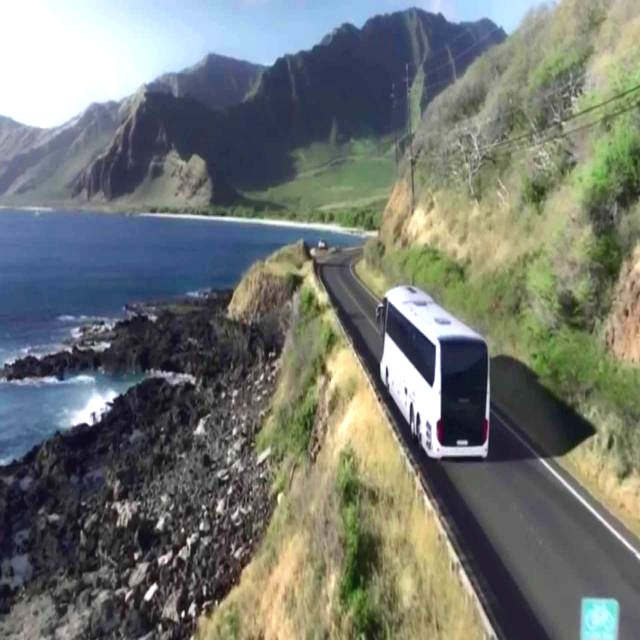bus: (358, 257, 520, 495)
